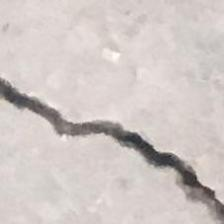Crack: (0, 76, 224, 224)
